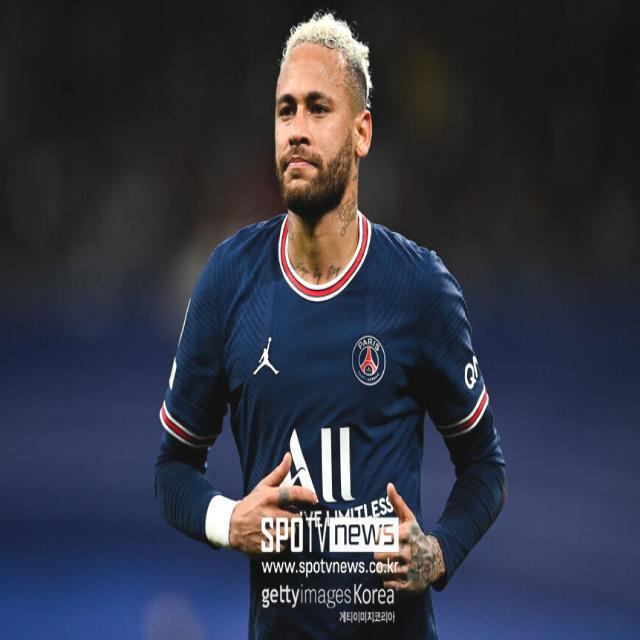neymar: (267, 18, 370, 203)
